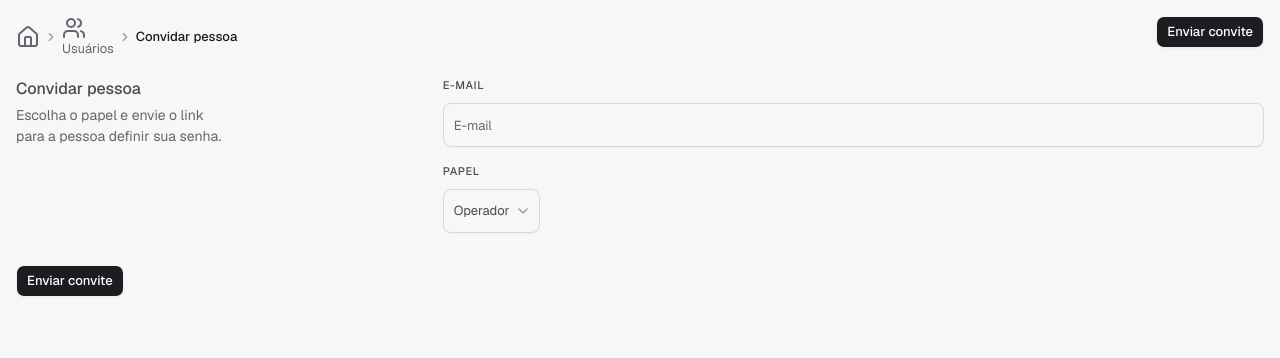
Test: UserInvitePage › sends normalized email and selected role; resets only after successful mail
In the field labelled "E-mail": (853, 125) [443,103,1264,147], type "NEW@example.com"
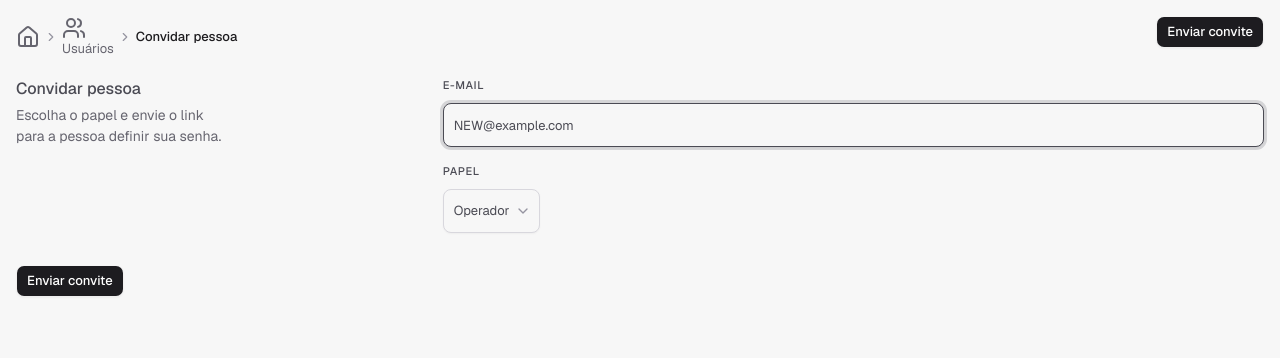
Click the dropdown: (492, 211) [443,189,540,233]
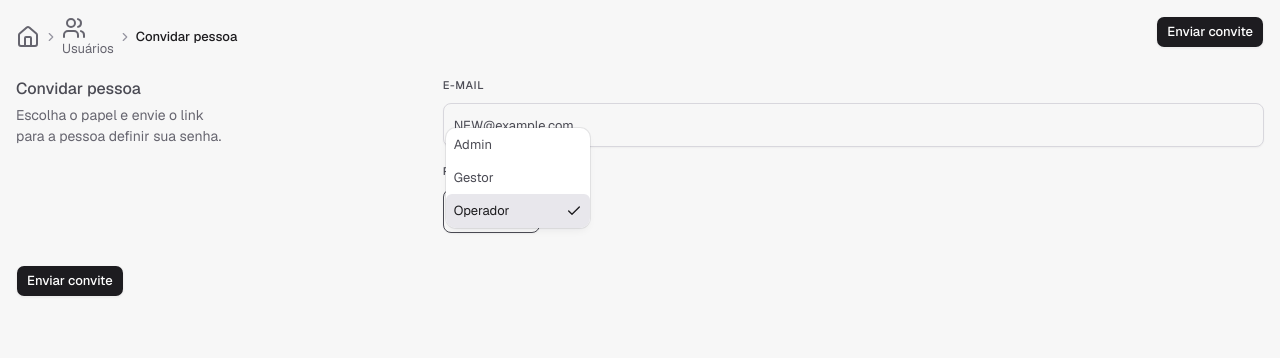
Click the option "Gestor": (474, 178) [454,169,494,186]
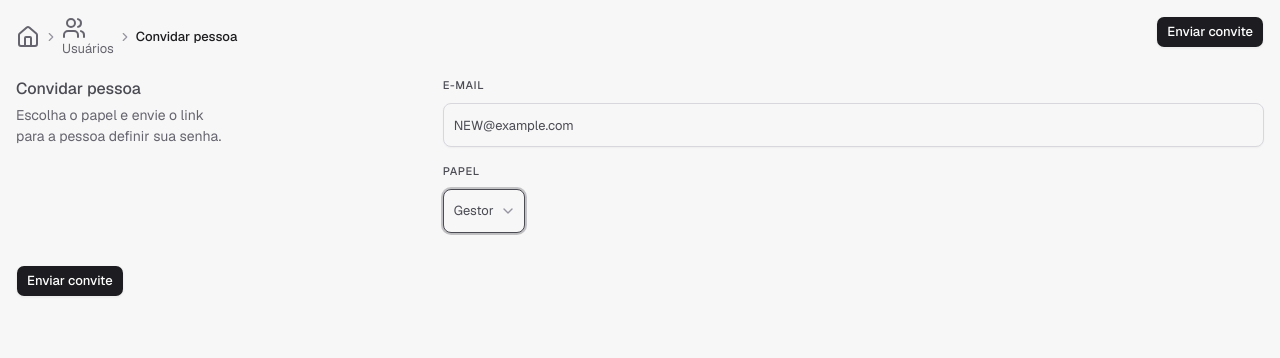
Click the button "Enviar convite" in the row of "Usuários": (1210, 32) [1156,16,1264,48]
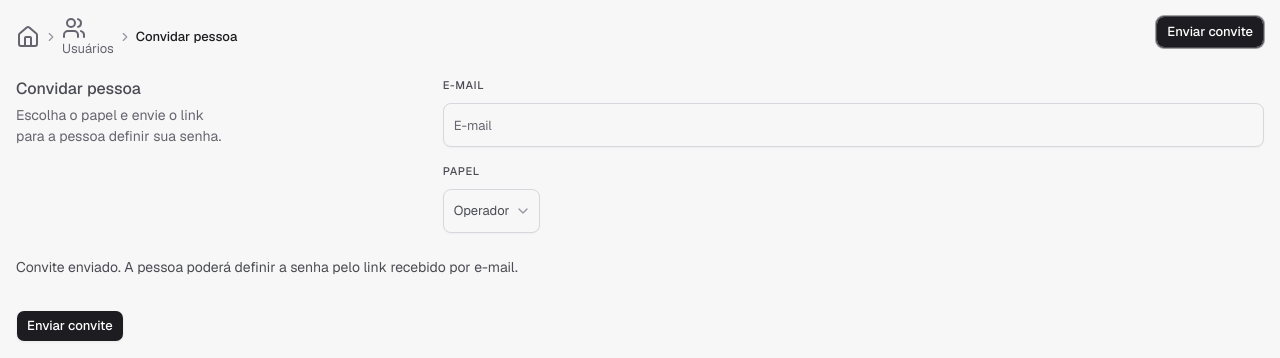
Expected: the message shows "Convite enviado.", [16,258,518,276]
Expected: the field labelled "E-mail" is empty, [443,103,1264,147]
Expected: the dropdown shows "Operador", [443,189,540,233]
